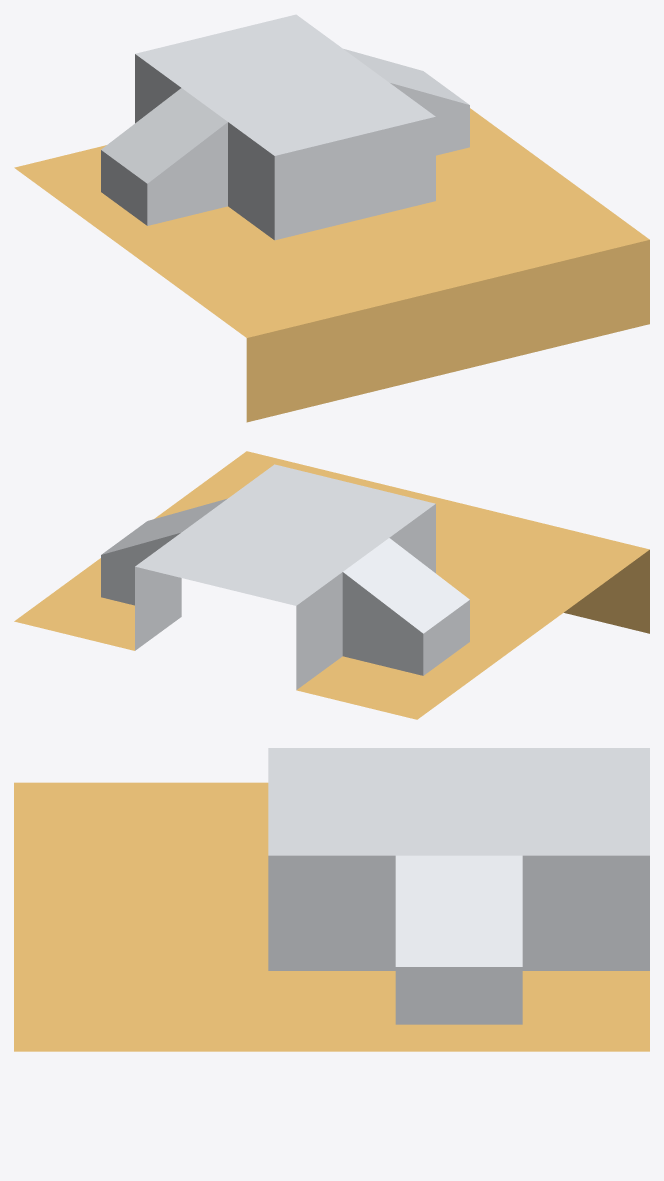
3 views of the same model, one above another, from view 1: azimuth 30°, elevation 25°; view 2: azimuth 150°, elevation 25°; view 3: azimuth 270°, elevation 25° (orthographic). The views are drawn at different scales.
Bounding box in the file's own units: 1 × 0.4 × 1.
